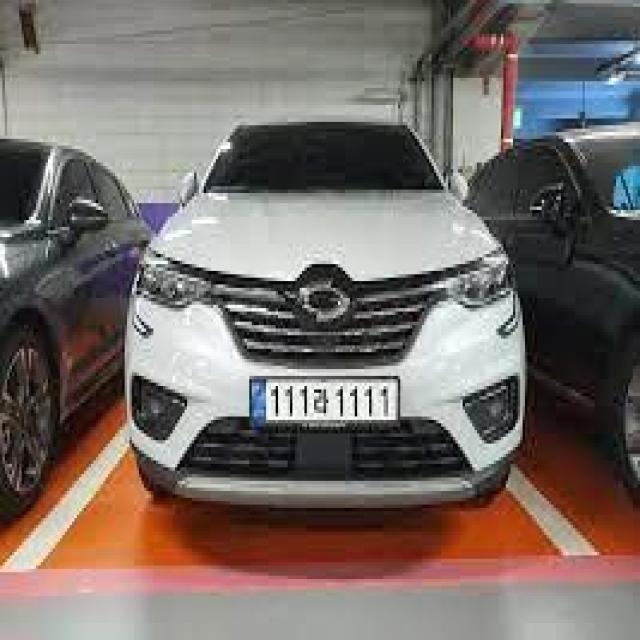car: (119, 100, 531, 526)
illegal_plate: (252, 371, 404, 431)
